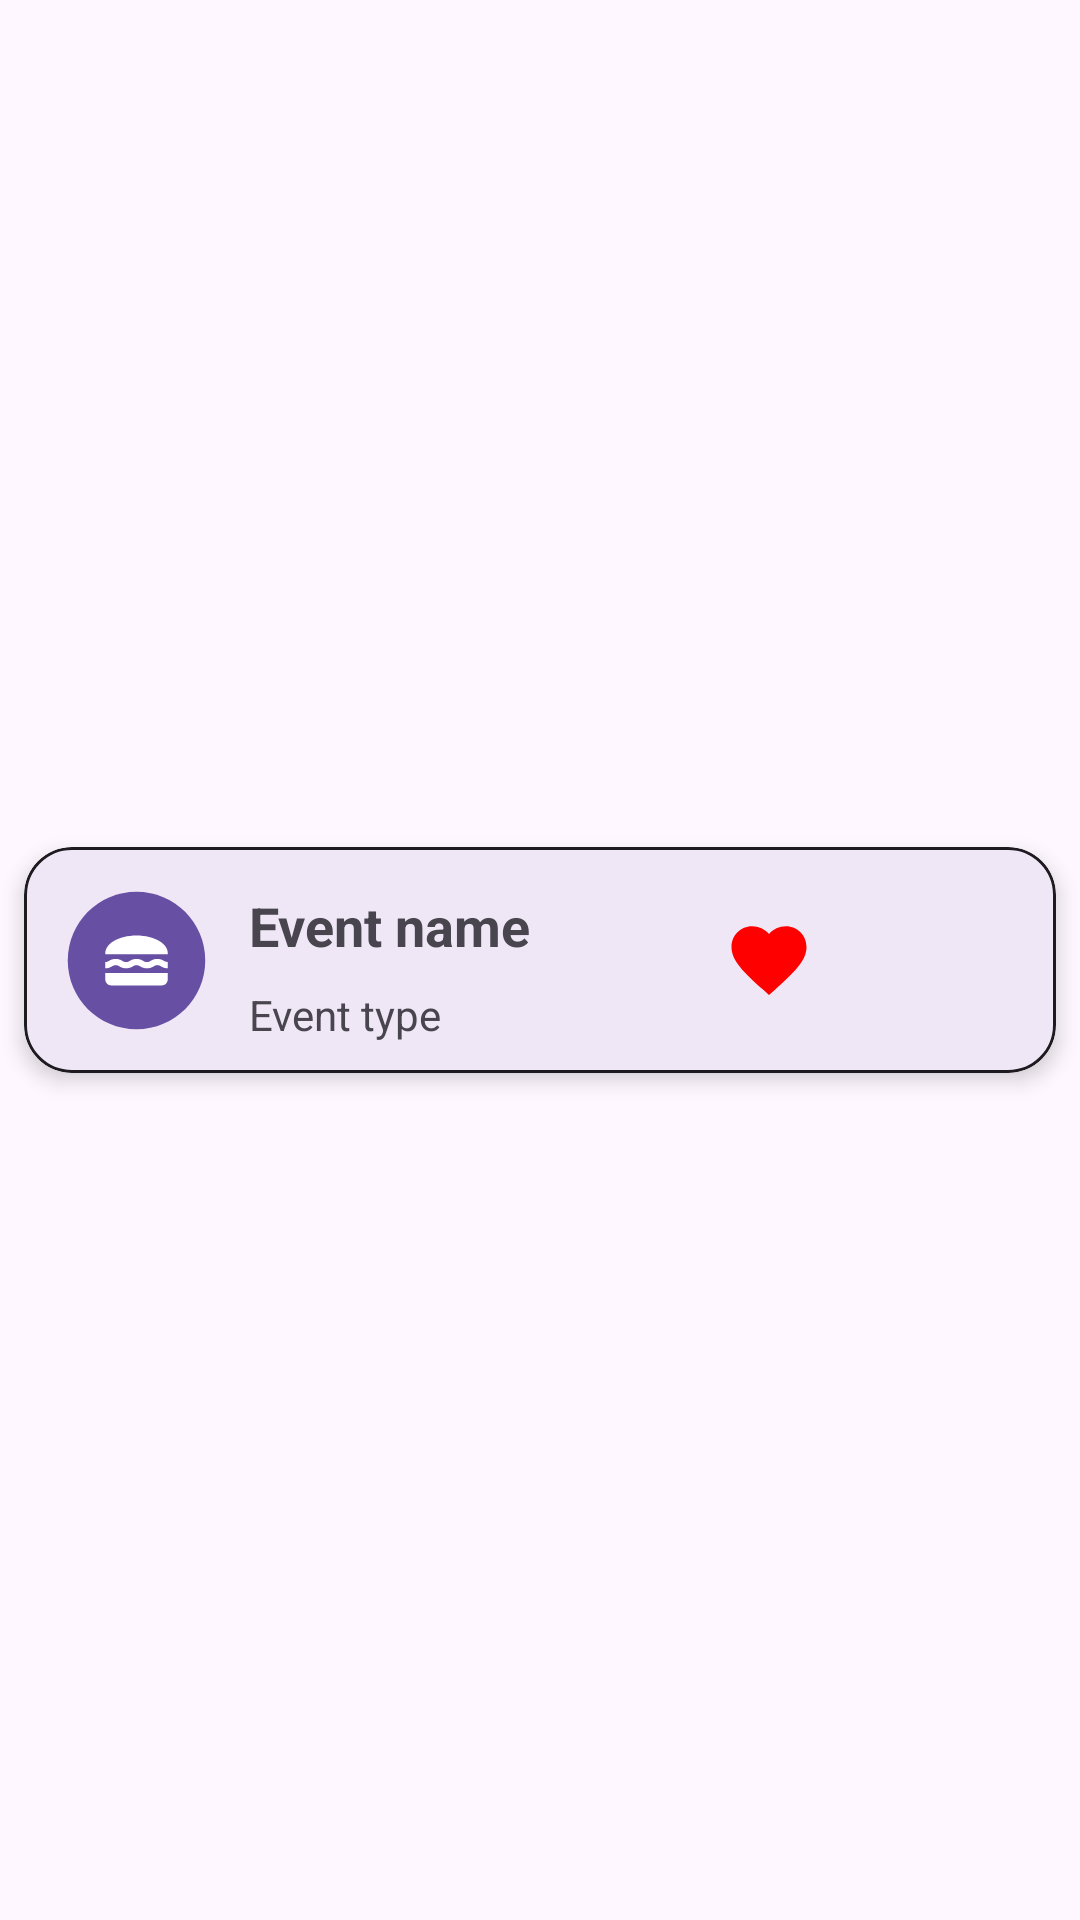

Where to tap for icons on this 1080×1920 app screen, as [x,y]:
favorite: [769,960]
lunch dining: [136,960]
